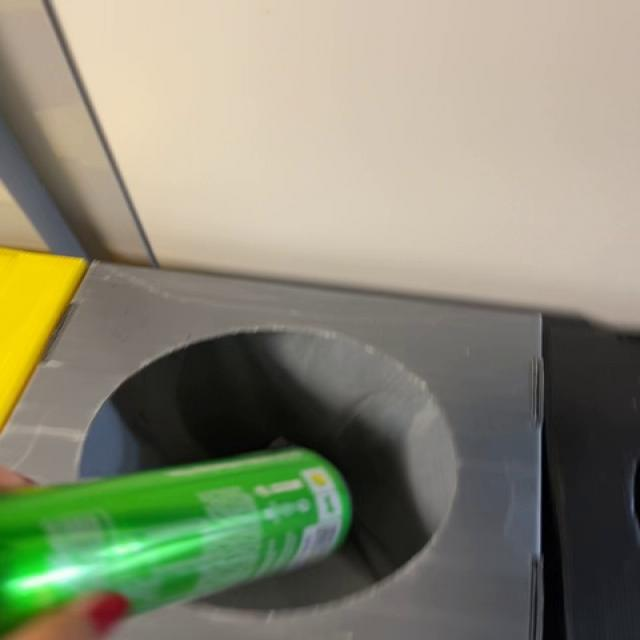bin: (1, 263, 544, 640)
metal: (0, 449, 352, 634)
